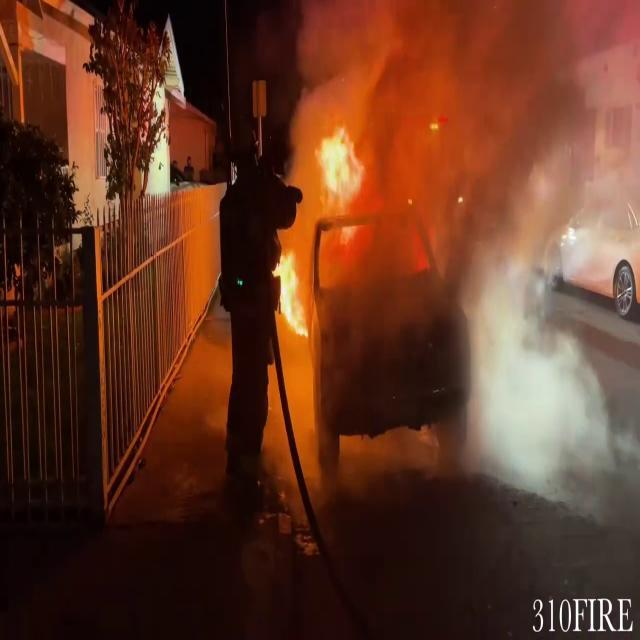Fire: (310, 116, 368, 216), (273, 238, 308, 348)
Smoke: (286, 1, 640, 300)
